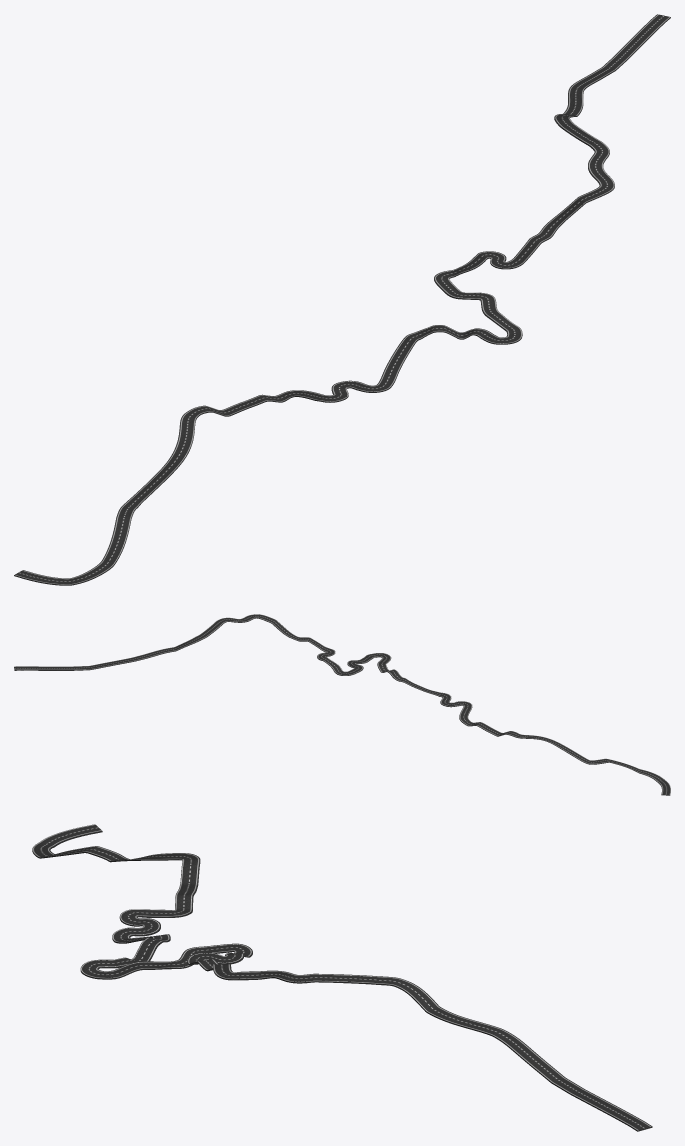
Rendered from BikeTrack.fbx.
3 renders of one model, top to bottom at view 1: azimuth 30°, elevation 25°; view 2: azimuth 150°, elevation 25°; view 3: azimuth 270°, elevation 25°, orthographic. The views are drawn at different scales.
Parts seen in each view (by area): view 1: Cube; view 2: Cube; view 3: Cube.
Boxes of the visible parts, left/top/right/bottom form: Cube: left=14, top=14, right=670, bottom=585; Cube: left=14, top=614, right=670, bottom=795; Cube: left=32, top=824, right=652, bottom=1131.
Bounding box in the file's own units: 24403 × 5236 × 12590.
1 material, 1 textured.
